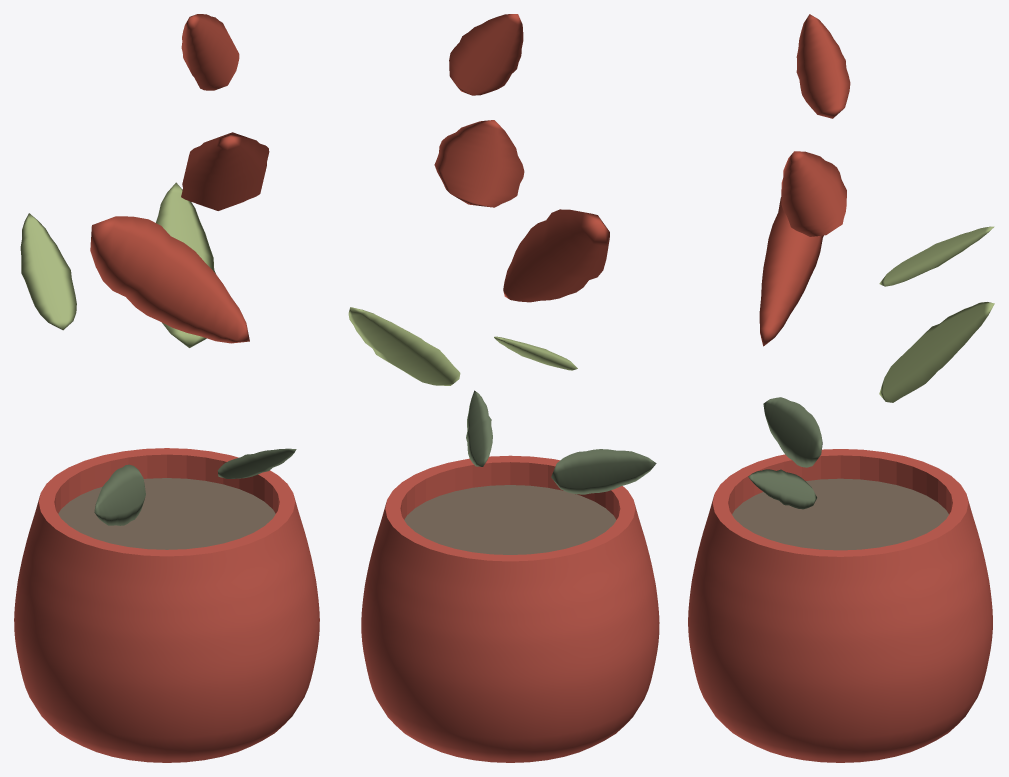
Rendered from NPR_25_1012__MOD__GardenFurniture__PlantersAndPots__PottedPlant__Var-02__.glb.
The picture shows the model from 3 angles, left to right: view 1: azimuth 30°, elevation 25°; view 2: azimuth 150°, elevation 25°; view 3: azimuth 270°, elevation 25°; orthographic projection. The views are drawn at different scales.
Parts seen in each view (by area): view 1: NPR_25_1012__MOD__GardenFurniture__PlantersAndPots__PottedPl; view 2: NPR_25_1012__MOD__GardenFurniture__PlantersAndPots__PottedPl; view 3: NPR_25_1012__MOD__GardenFurniture__PlantersAndPots__PottedPl.
Part boxes in pixels (x1,y1,x2,y2): NPR_25_1012__MOD__GardenFurniture__PlantersAndPots__PottedPl: (14,14,319,762); NPR_25_1012__MOD__GardenFurniture__PlantersAndPots__PottedPl: (348,14,659,762); NPR_25_1012__MOD__GardenFurniture__PlantersAndPots__PottedPl: (688,14,994,762).
Bounding box in the file's own units: 0.3556 × 0.9087 × 0.3578.
